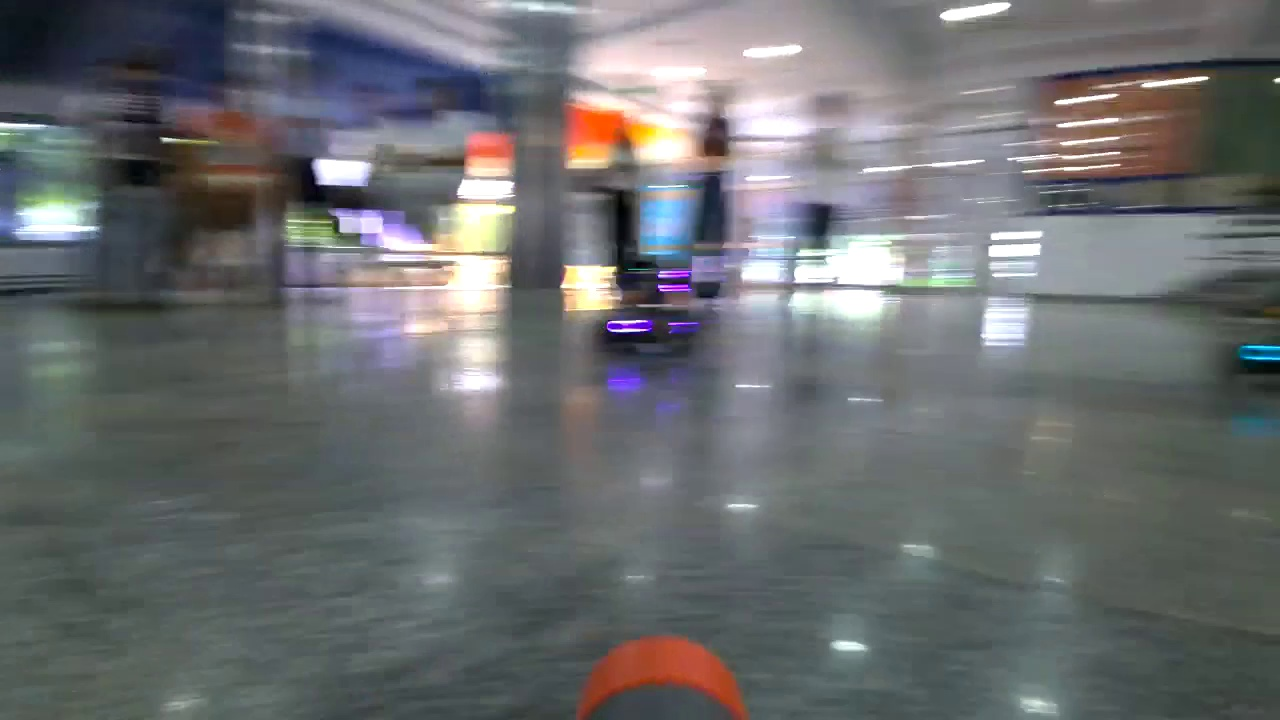robot: (602, 257, 700, 344)
